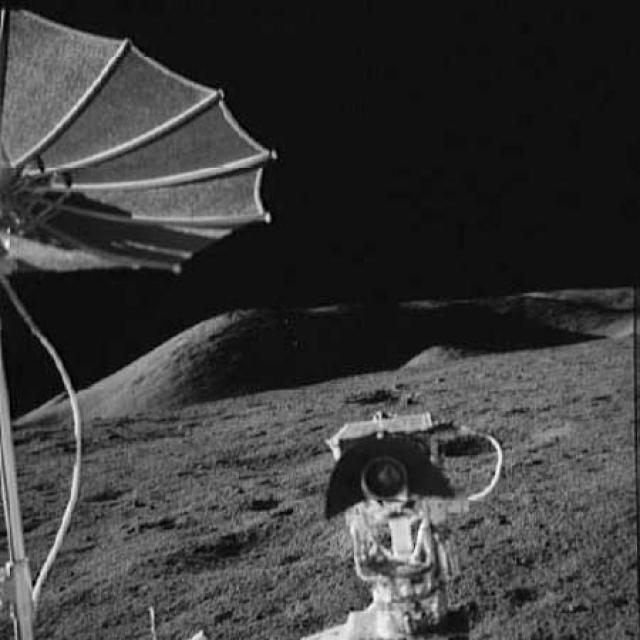artifact: (0, 10, 286, 288), (301, 411, 525, 639), (0, 288, 98, 638)
crater: (162, 520, 309, 566)
rock: (409, 338, 464, 372)
